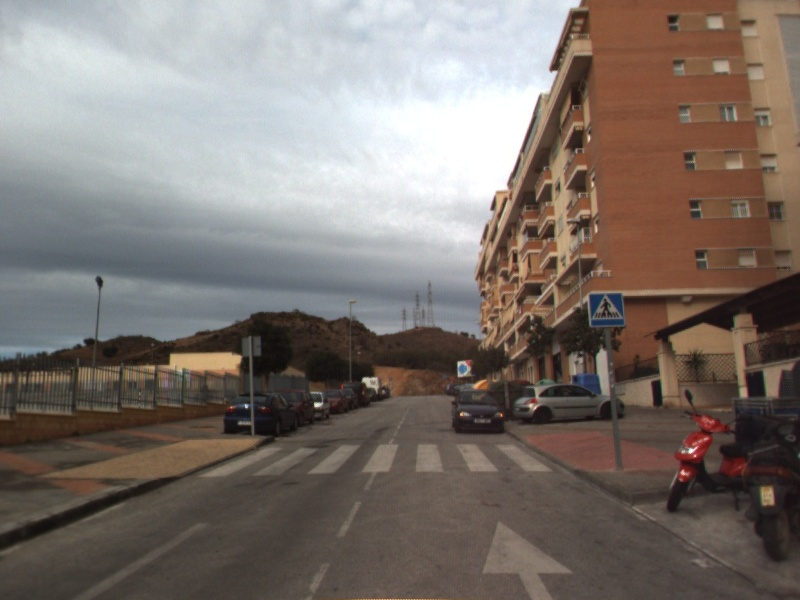STRAIGHT: (480, 518, 576, 600)
